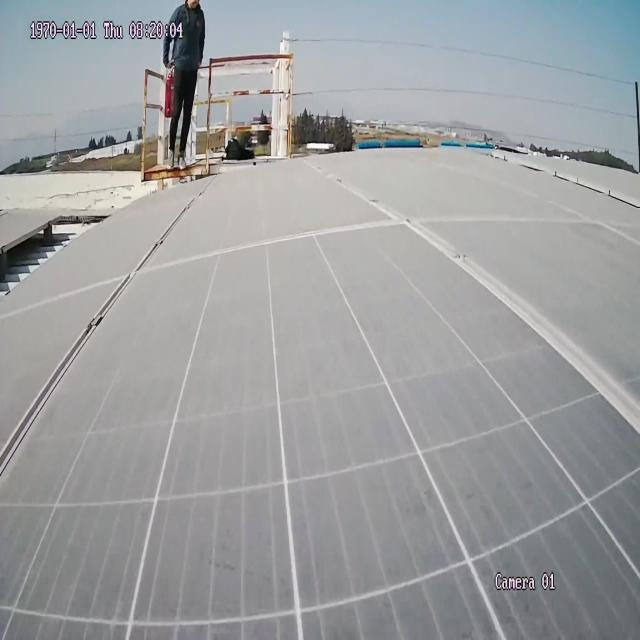interior panel: (0, 149, 640, 512)
outher panel: (3, 212, 110, 301)
